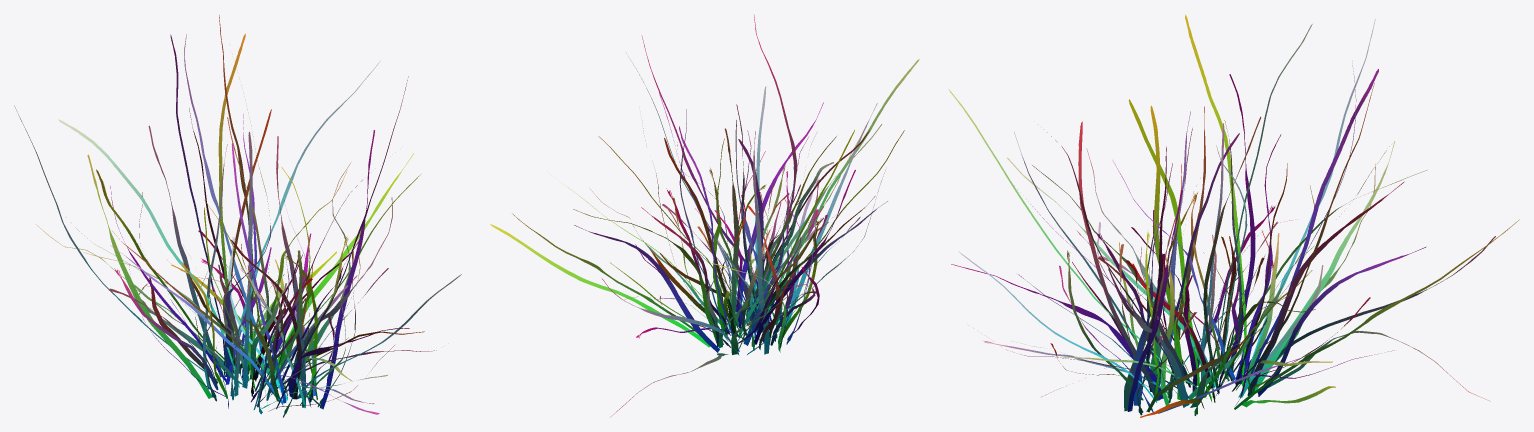
The model's file is Wild_Grass_vlkhcbxia_Raw_vlkhcbxia_VarD_LOD0.fbx.
3 renders of one model, left to right at view 1: azimuth 30°, elevation 25°; view 2: azimuth 150°, elevation 25°; view 3: azimuth 270°, elevation 25°, orthographic. The views are drawn at different scales.
Visible parts, largest first — view 1: _6fsx_VarD_High; view 2: _6fsx_VarD_High; view 3: _6fsx_VarD_High.
Part boxes in pixels (x1,y1,x2,y2): _6fsx_VarD_High: (14, 15, 461, 417); _6fsx_VarD_High: (490, 15, 919, 417); _6fsx_VarD_High: (948, 14, 1519, 417).
Size of the model in its own units: 35.74 by 27.03 by 41.33.
